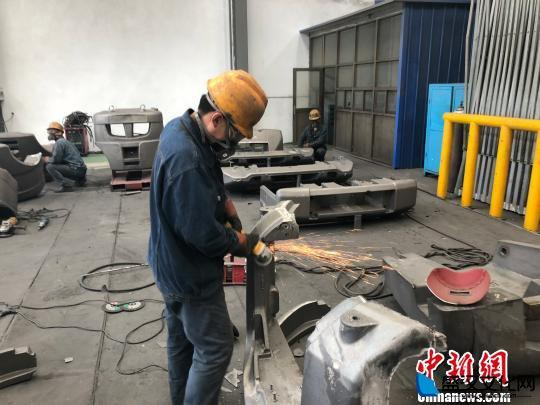helmet: (208, 69, 276, 134), (306, 106, 329, 122), (47, 122, 67, 136)
